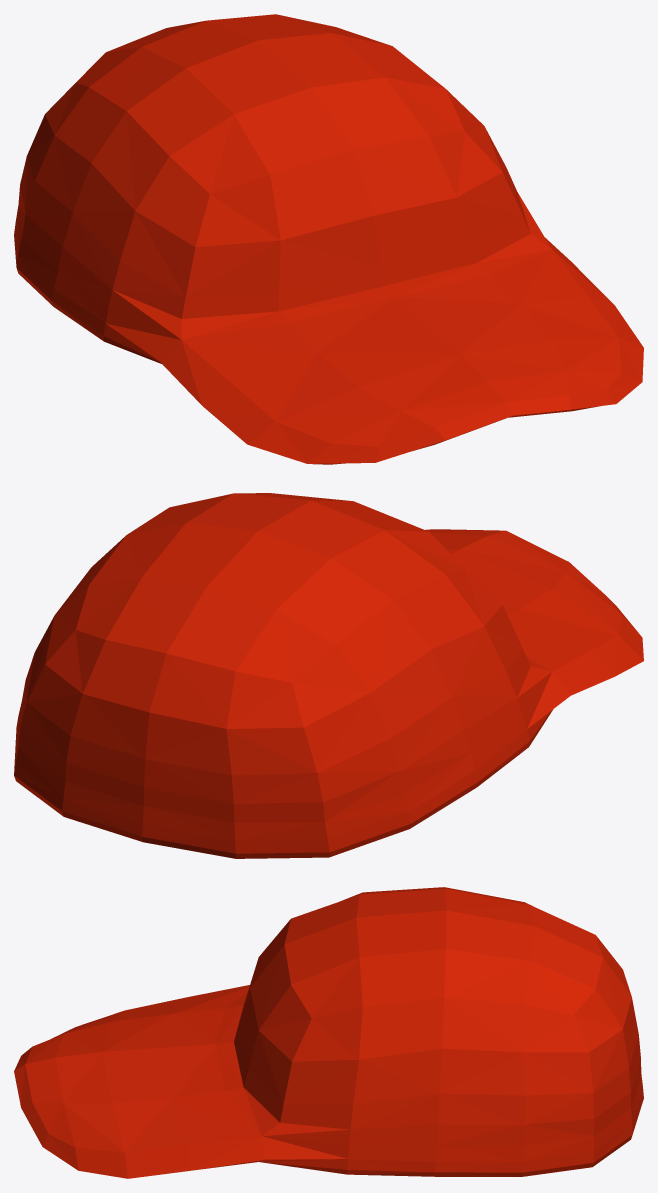
File: hat.dae
The picture shows the model from 3 angles, top to bottom: view 1: azimuth 30°, elevation 25°; view 2: azimuth 150°, elevation 25°; view 3: azimuth 270°, elevation 25°; orthographic projection. The views are drawn at different scales.
Parts seen in each view (by area): view 1: Hat; view 2: Hat; view 3: Hat.
Part boxes in pixels (x1=…): Hat: x1=14, y1=14, x2=643, y2=464; Hat: x1=14, y1=493, x2=643, y2=858; Hat: x1=14, y1=887, x2=643, y2=1178.
Size of the model in its own units: 0.0872 by 0.1313 by 0.0445.
